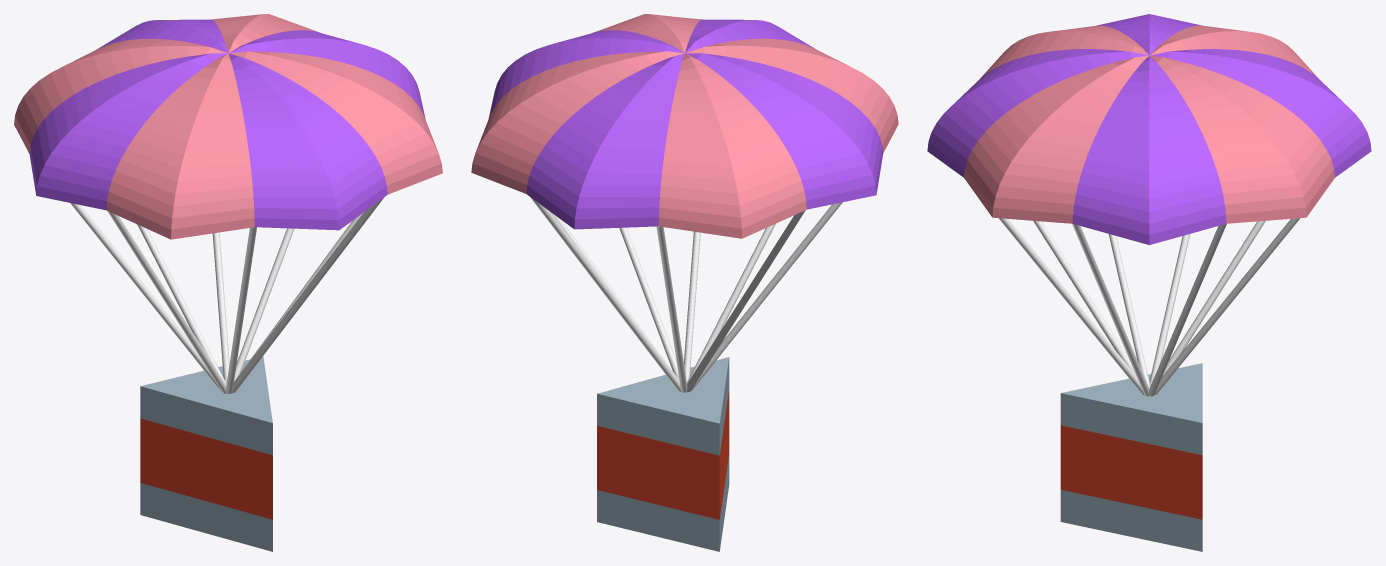
The model's file is ParachuteShields.dae.
The picture shows the model from 3 angles, left to right: view 1: azimuth 30°, elevation 25°; view 2: azimuth 150°, elevation 25°; view 3: azimuth 270°, elevation 25°; orthographic projection.
Visible parts, largest first — view 1: Sphere, Cube, Cylinder.004, Cylinder.006, Cylinder.007, Cylinder.003, Cylinder.000, Cylinder.001, Cylinder.002, Cylinder.009; view 2: Sphere, Cube, Cylinder.002, Cylinder.007, Cylinder.006, Cylinder.001, Cylinder.009, Cylinder.003, Cylinder.004, Cylinder.000; view 3: Sphere, Cube, Cylinder.002, Cylinder.004, Cylinder.000, Cylinder.009, Cylinder.001, Cylinder.003, Cylinder.006, Cylinder.007.
Boxes of the visible parts, x1=… form: Sphere: x1=14, y1=14, x2=442, y2=239; Cube: x1=140, y1=356, x2=272, y2=551; Cylinder.004: x1=232, y1=197, x2=384, y2=393; Cylinder.006: x1=107, y1=211, x2=226, y2=393; Cylinder.007: x1=70, y1=203, x2=221, y2=391; Cylinder.003: x1=226, y1=227, x2=256, y2=393; Cylinder.000: x1=234, y1=228, x2=294, y2=381; Cylinder.001: x1=137, y1=224, x2=226, y2=384; Cylinder.002: x1=212, y1=232, x2=229, y2=383; Cylinder.009: x1=234, y1=212, x2=363, y2=381; Sphere: x1=471, y1=14, x2=898, y2=238; Cube: x1=597, y1=357, x2=729, y2=551; Cylinder.002: x1=530, y1=197, x2=681, y2=391; Cylinder.007: x1=687, y1=210, x2=805, y2=392; Cylinder.006: x1=691, y1=202, x2=842, y2=390; Cylinder.001: x1=656, y1=226, x2=687, y2=392; Cylinder.009: x1=619, y1=227, x2=679, y2=379; Cylinder.003: x1=687, y1=223, x2=775, y2=383; Cylinder.004: x1=684, y1=231, x2=700, y2=381; Cylinder.000: x1=550, y1=212, x2=679, y2=380; Sphere: x1=927, y1=14, x2=1371, y2=244; Cube: x1=1060, y1=363, x2=1202, y2=551; Cylinder.002: x1=1154, y1=218, x2=1299, y2=394; Cylinder.004: x1=999, y1=218, x2=1144, y2=394; Cylinder.000: x1=1149, y1=223, x2=1226, y2=396; Cylinder.009: x1=1072, y1=223, x2=1149, y2=396; Cylinder.001: x1=1163, y1=220, x2=1265, y2=374; Cylinder.003: x1=1033, y1=221, x2=1135, y2=374; Cylinder.006: x1=1108, y1=234, x2=1149, y2=388; Cylinder.007: x1=1149, y1=234, x2=1190, y2=387.
Size of the model in its own units: 5 by 5 by 5.84.
